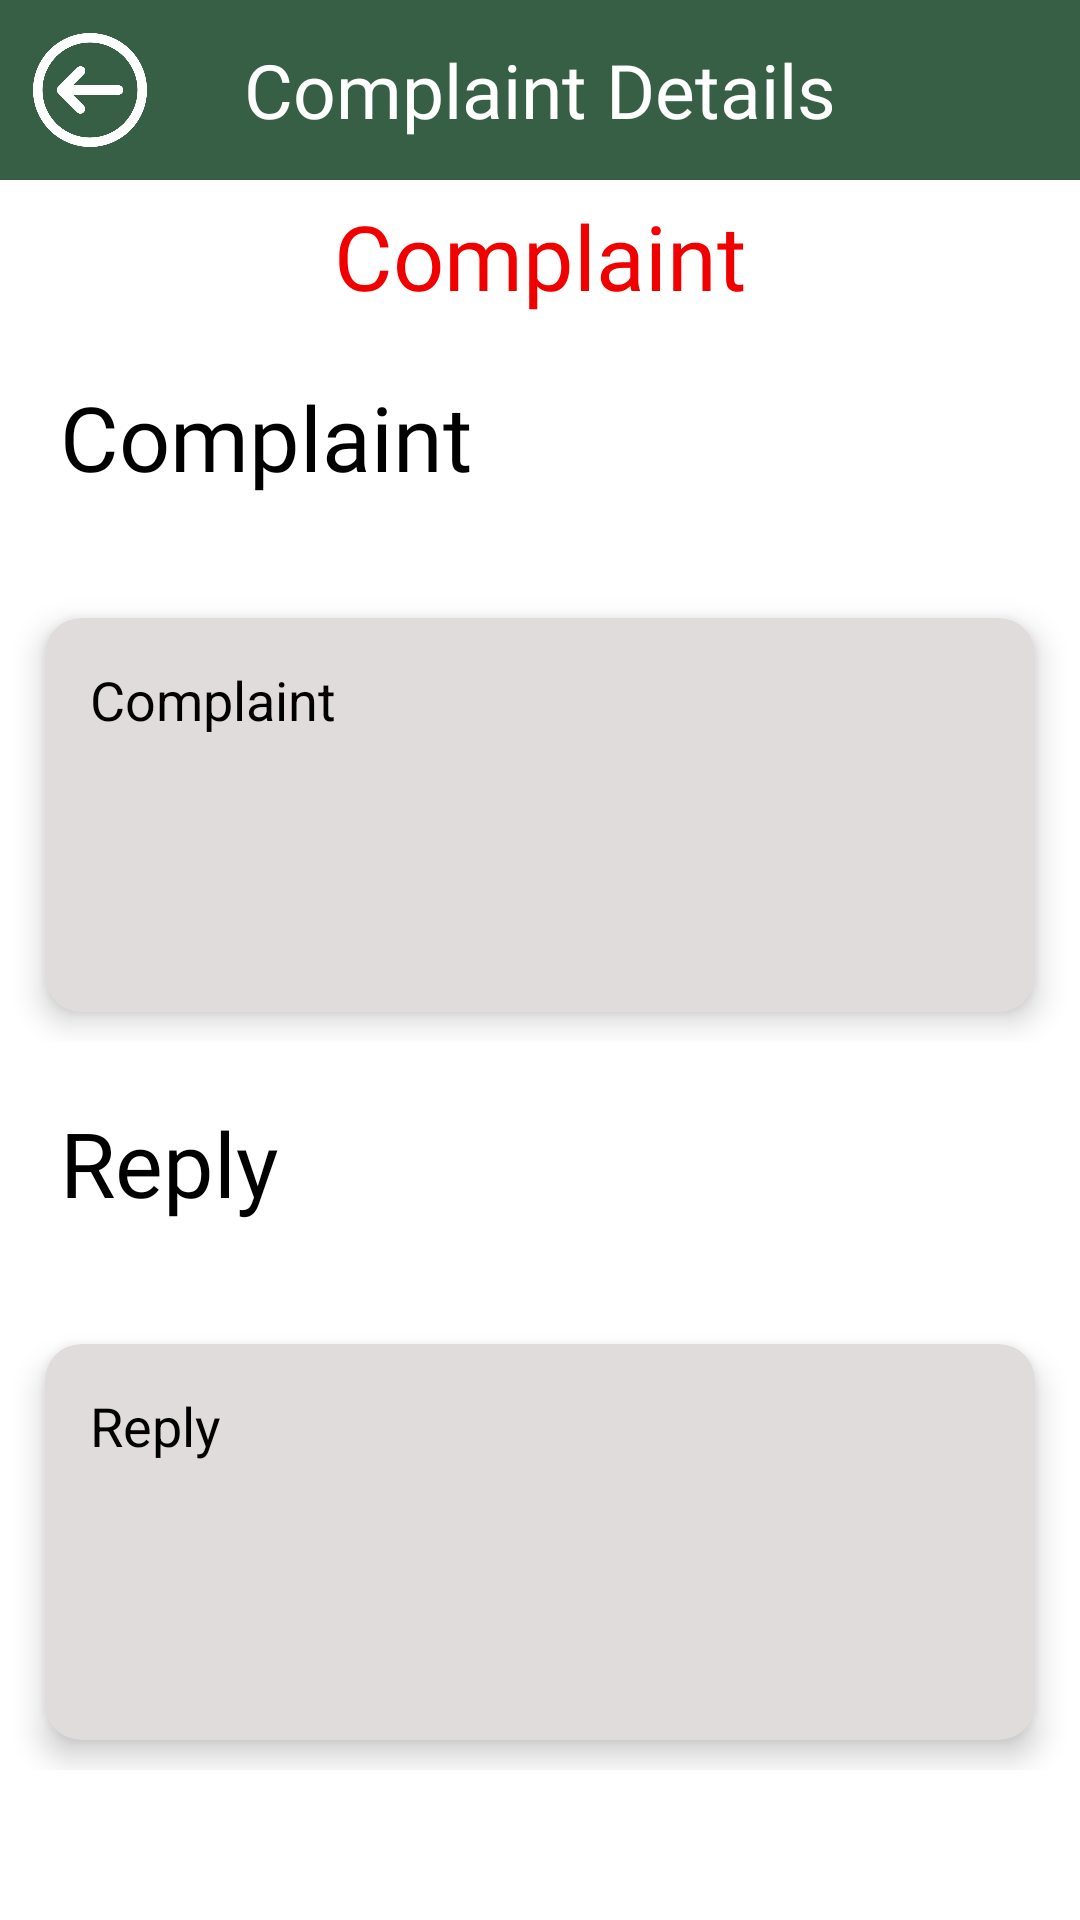

Named icons in this screenshot (1080 × 1920) and their centers, (x=x, y=y):
back: (x=90, y=90)
